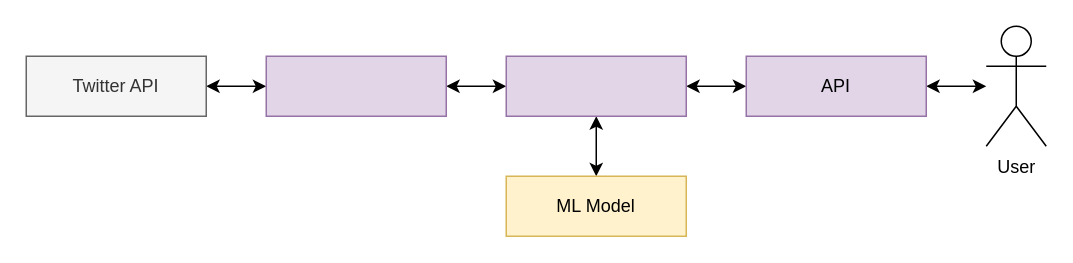
This 1073x263 diagram has some shape labels left out. Here are the shapes that lost their labels. From the top down, the centre of each, then its label:
At (x=355, y=85): "Parser".
At (x=595, y=85): "Predictor".
